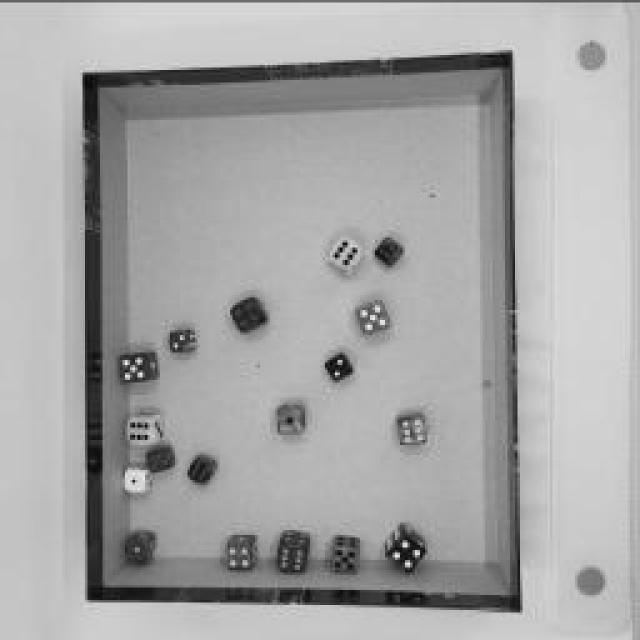dice_1: (124, 525, 161, 565), (121, 460, 159, 495), (274, 403, 311, 435)
dice_2: (326, 351, 359, 389), (166, 325, 199, 357)
dice_3: (145, 445, 180, 473)
dice_4: (381, 523, 431, 575), (229, 294, 271, 336), (225, 534, 263, 571)
dice_5: (354, 296, 398, 339), (116, 347, 164, 385), (328, 532, 364, 578)
dice_6: (322, 232, 370, 276), (273, 527, 315, 575), (124, 408, 166, 450), (395, 410, 435, 448), (185, 450, 223, 490), (372, 231, 408, 271)
